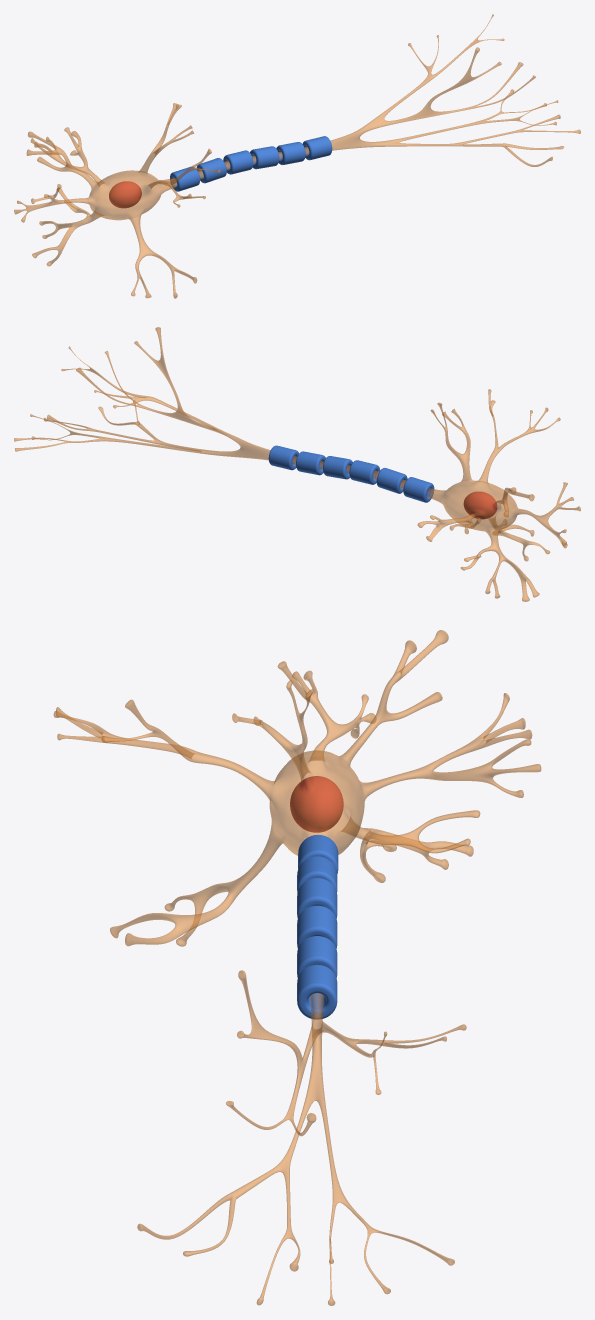
The model's file is Synaps Hücre.glb.
3 renders of one model, top to bottom at view 1: azimuth 30°, elevation 25°; view 2: azimuth 150°, elevation 25°; view 3: azimuth 270°, elevation 25°, orthographic. The views are drawn at different scales.
Parts seen in each view (by area): view 1: Synaps, Miyelin_Kılıflar, Çekirdek; view 2: Synaps, Miyelin_Kılıflar, Çekirdek; view 3: Synaps, Miyelin_Kılıflar, Çekirdek.
Part boxes in pixels (box(x1,y1,x2,y2)): Synaps: box(14, 14, 580, 298); Miyelin_Kılıflar: box(170, 136, 332, 191); Çekirdek: box(109, 181, 141, 208); Synaps: box(14, 327, 580, 601); Miyelin_Kılıflar: box(268, 445, 434, 502); Çekirdek: box(463, 491, 497, 519); Synaps: box(53, 630, 541, 1305); Miyelin_Kılıflar: box(297, 834, 338, 1019); Çekirdek: box(290, 776, 343, 832).
Size of the model in its own units: 74.24 by 21.08 by 29.09.
